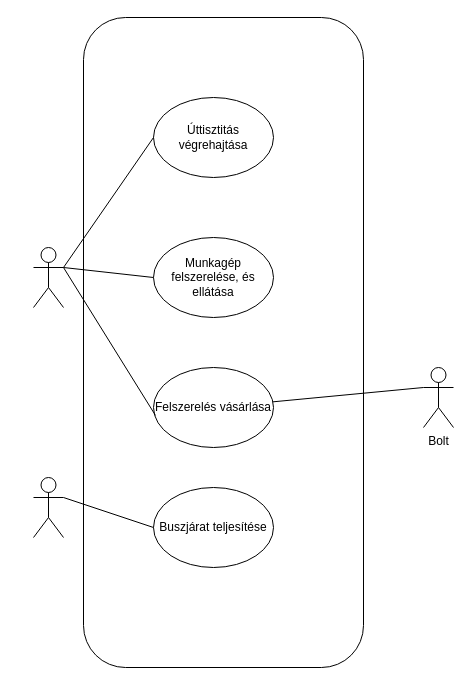
This 471x685 diagram has some shape labels left out. The shapes that lost their labels are listed below. From the top down, each one's centre as x and y in pixels, then its label:
At pixel 48 277: "Takarító".
At pixel 48 507: "Buszvezető".
